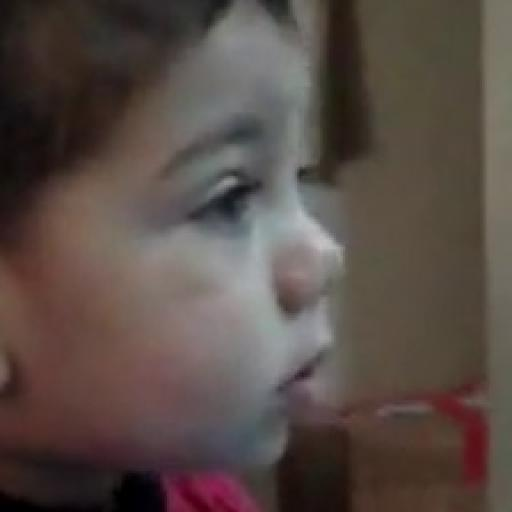Autism: (38, 28, 380, 477)
